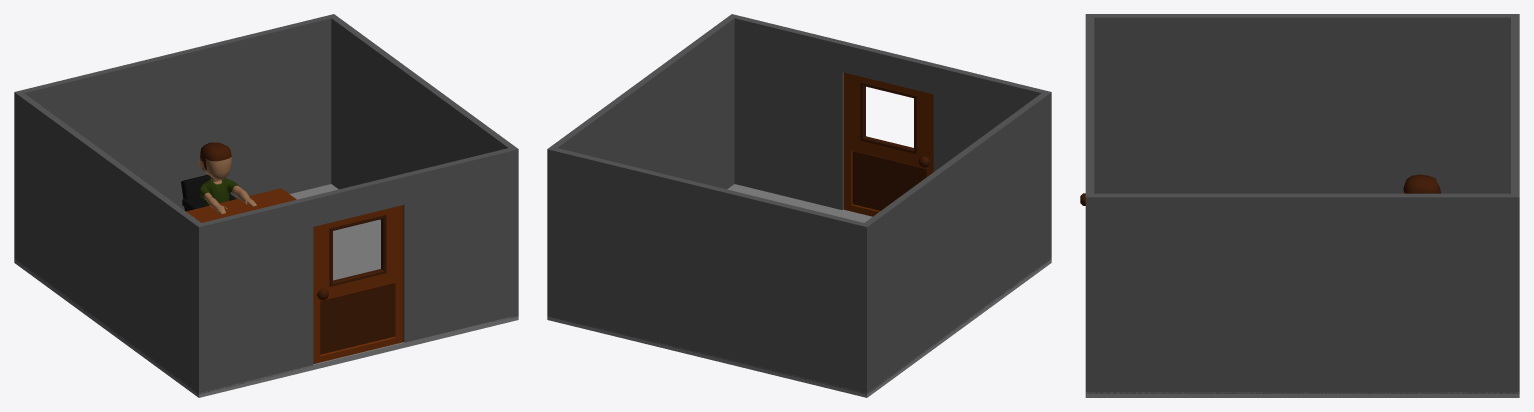
Rendered from Office_v1.fbx.
3 renders of one model, left to right at view 1: azimuth 30°, elevation 25°; view 2: azimuth 150°, elevation 25°; view 3: azimuth 270°, elevation 25°, orthographic. The views are drawn at different scales.
Parts seen in each view (by area): view 1: Office, Door, Office_NPC_1, OfficeDesk, OfficeChair; view 2: Office, Door; view 3: Office, Office_NPC_1.
Boxes of the visible parts, <box> form: Office: <box>14,14,518,397</box>; Door: <box>313,205,402,363</box>; Office_NPC_1: <box>198,142,256,214</box>; OfficeDesk: <box>186,188,296,222</box>; OfficeChair: <box>181,174,236,211</box>; Office: <box>547,14,1051,397</box>; Door: <box>844,72,933,216</box>; Office: <box>1085,14,1519,397</box>; Office_NPC_1: <box>1403,174,1440,193</box>.
Size of the model in its own units: 1000 by 510 by 1013.
